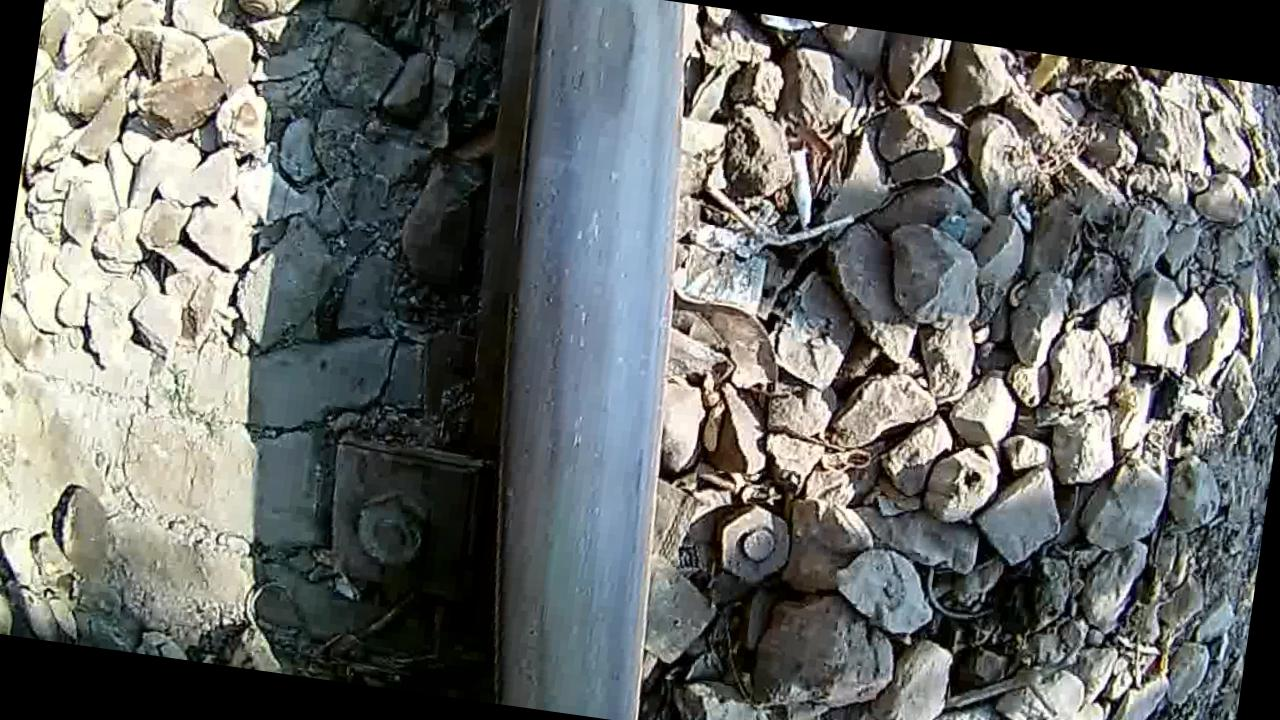bolt_missing: (569, 0, 648, 120)
